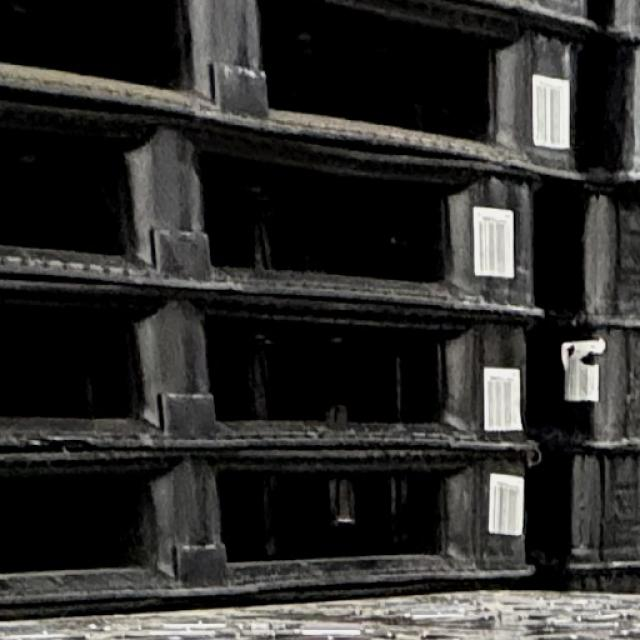igps: (0, 74, 565, 320), (0, 0, 604, 196), (0, 270, 551, 452), (0, 446, 549, 628)
